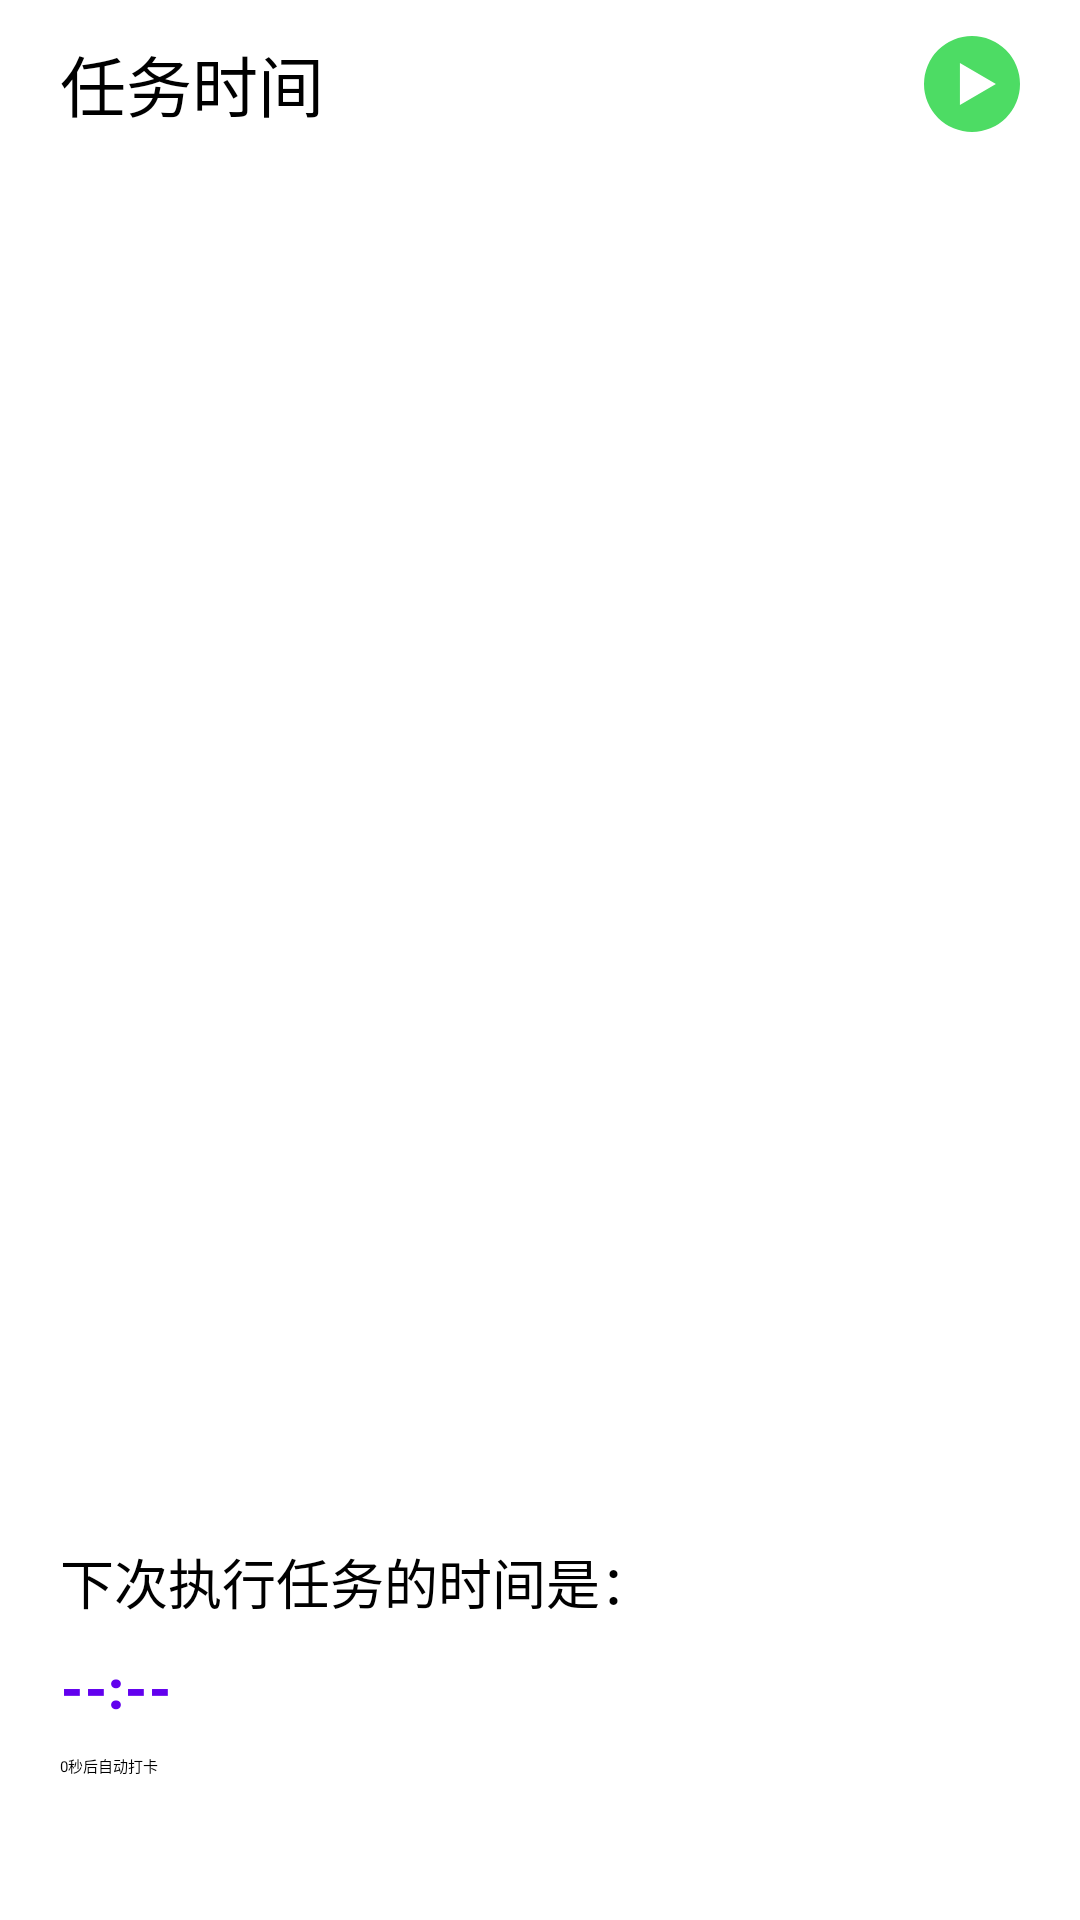

Named icons in this screenshot (1080w x 1920h) and their bounding boxes, [x1,y1,x2,y2]:
play: [924,36,1020,132]
